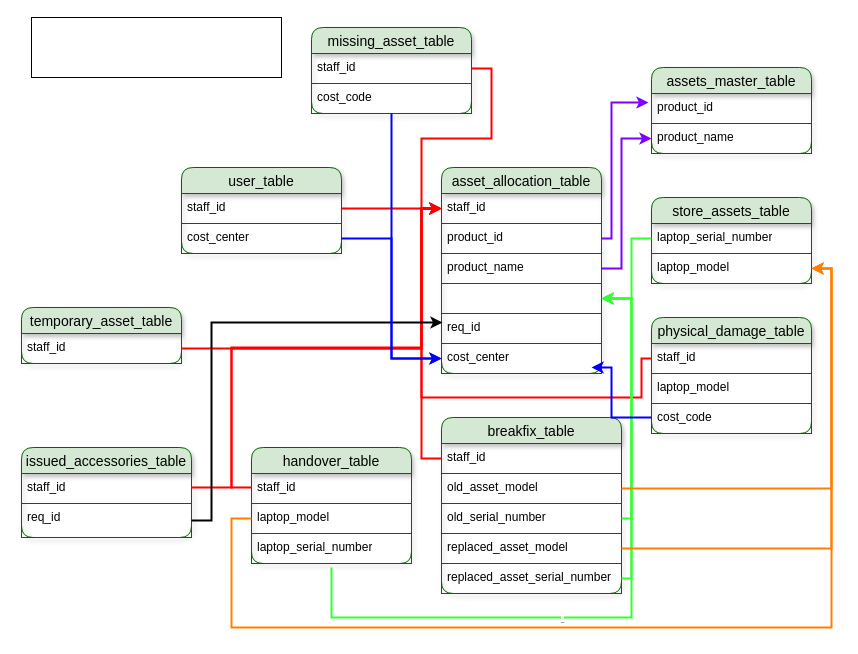
This 858x654 diagram has some shape labels left out. The shapes that lost their labels are listed below. From the top down, each one's centre as x and y in pixels, then its label:
pixel 156 47: Integration Model
pixel 521 298: serial_number
